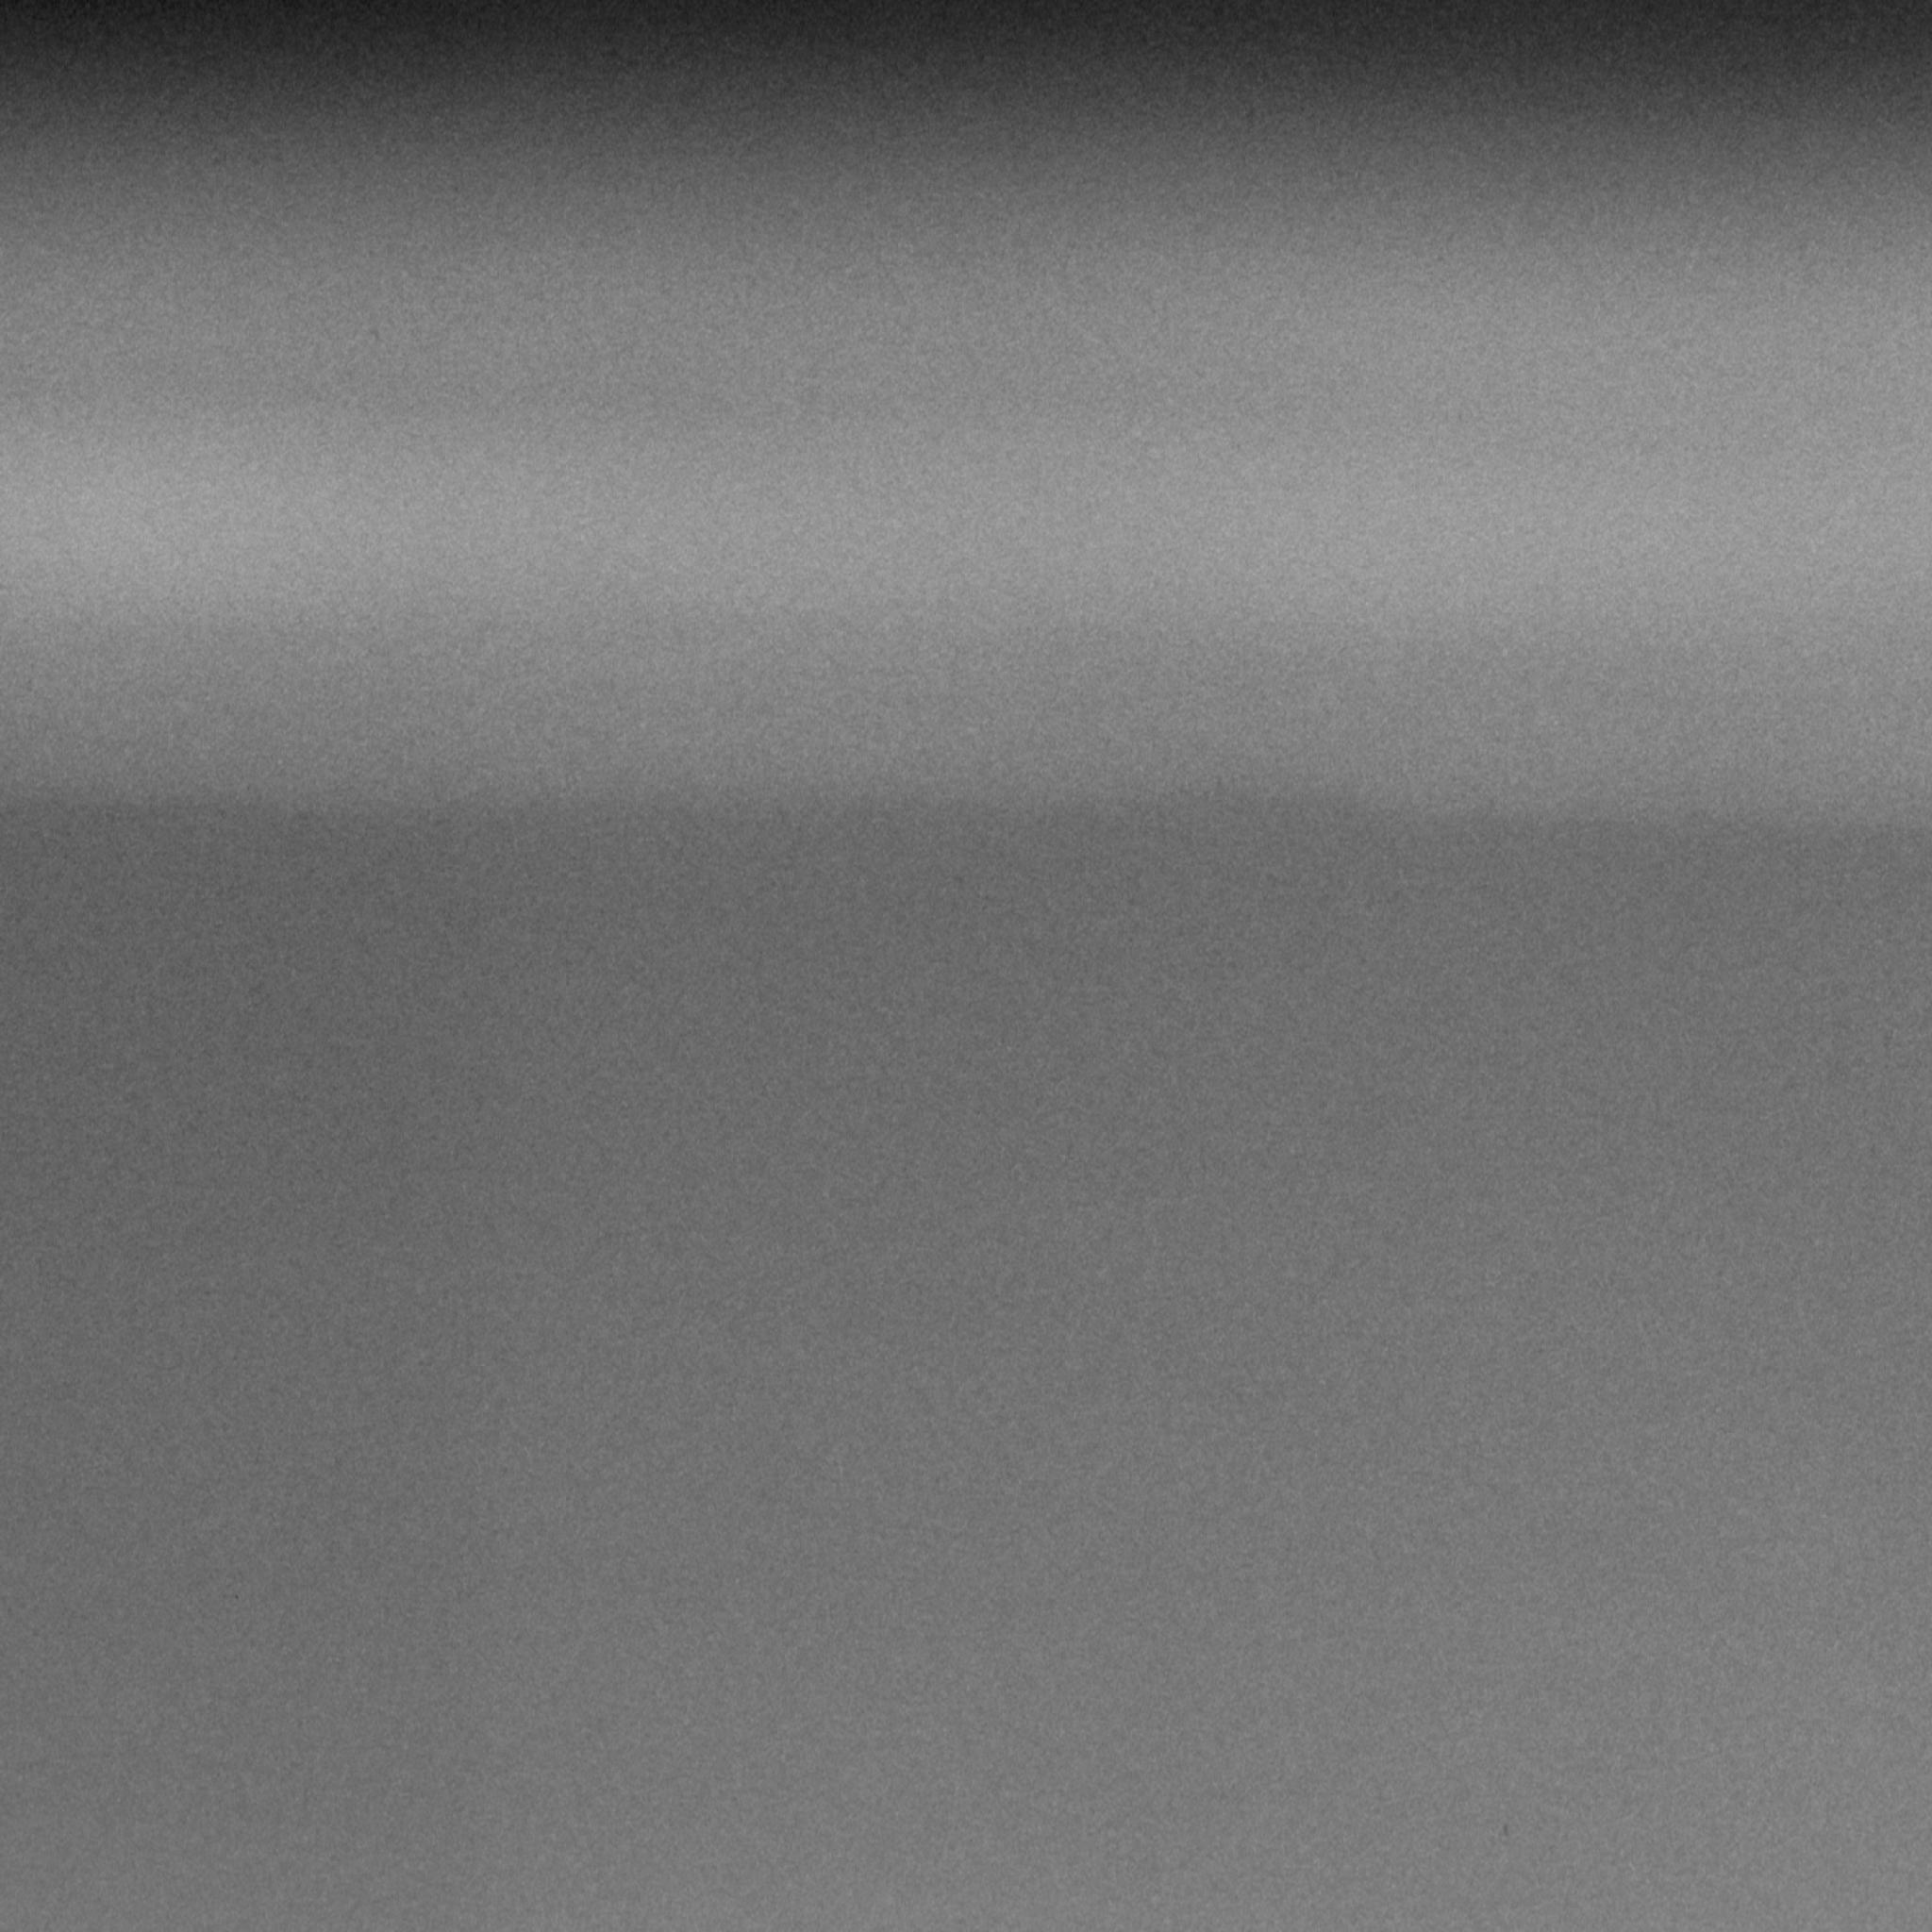Sem defeitos: (0, 0, 1932, 932)
